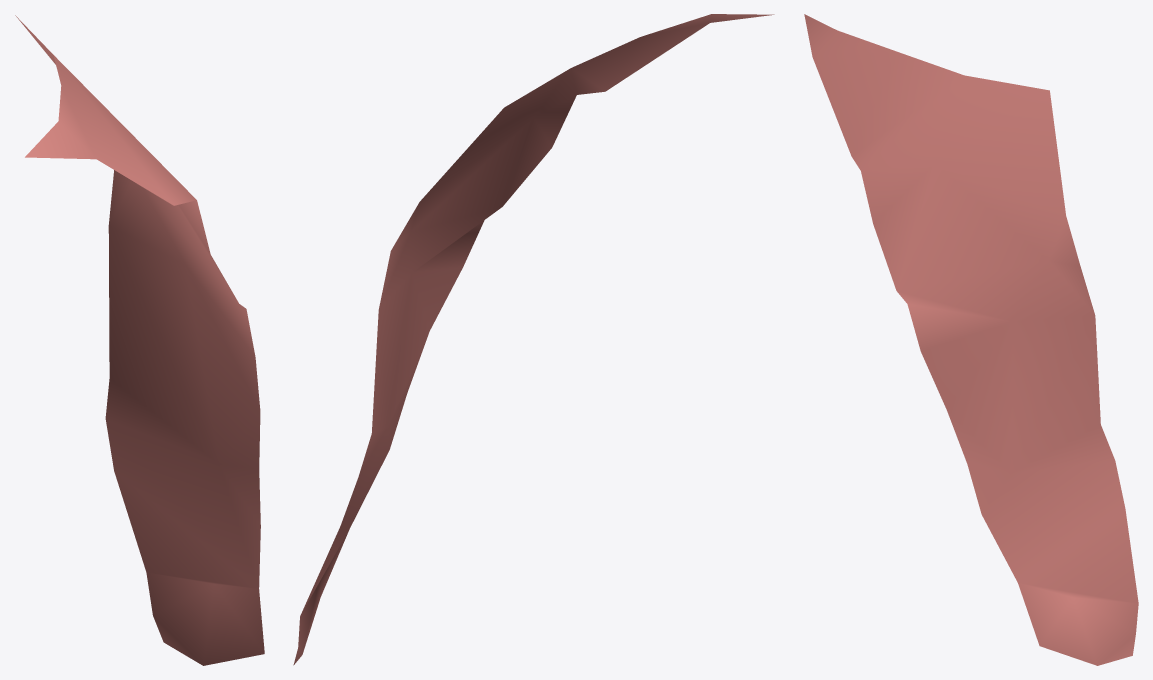
3 renders of one model, left to right at view 1: azimuth 30°, elevation 25°; view 2: azimuth 150°, elevation 25°; view 3: azimuth 270°, elevation 25°, orthographic. The views are drawn at different scales.
Visible parts, largest first — view 1: ZA_88bf34d9ac762ebc; view 2: ZA_88bf34d9ac762ebc; view 3: ZA_88bf34d9ac762ebc.
Boxes of the visible parts, x1,y1,x2,y2 form: ZA_88bf34d9ac762ebc: (15,15,264,665); ZA_88bf34d9ac762ebc: (293,14,774,665); ZA_88bf34d9ac762ebc: (804,14,1138,665).
Size of the model in its own units: 0.0275 by 0.0488 by 0.0282.
